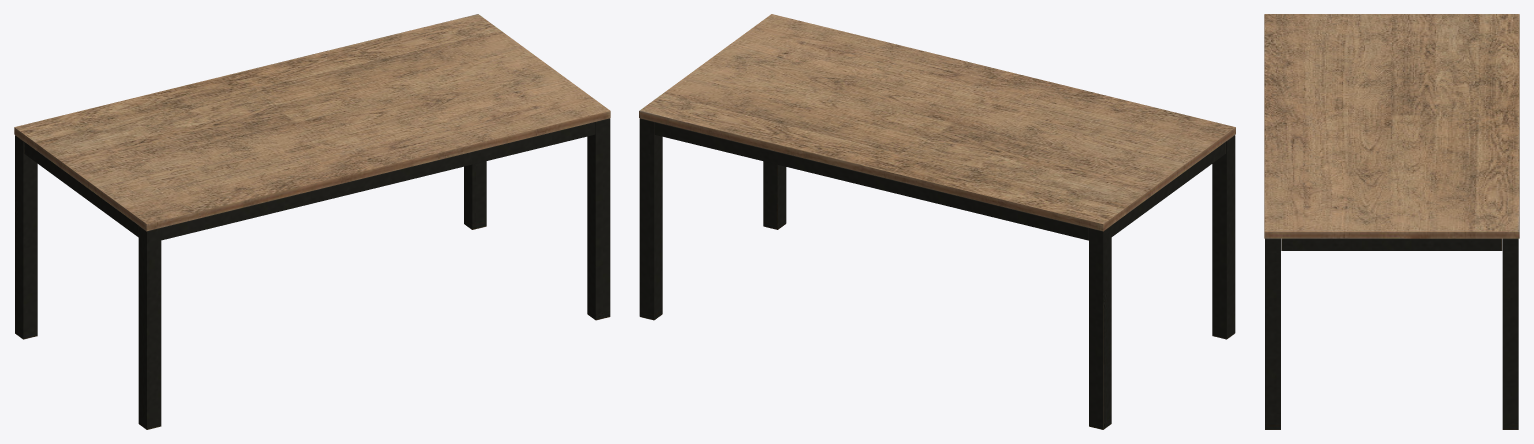
Rendered from B07HSJJF2X.glb.
3 renders of one model, left to right at view 1: azimuth 30°, elevation 25°; view 2: azimuth 150°, elevation 25°; view 3: azimuth 270°, elevation 25°, orthographic. The views are drawn at different scales.
Parts seen in each view (by area): view 1: RootNode; view 2: RootNode; view 3: RootNode.
Boxes of the visible parts, x1,y1,x2,y2 form: RootNode: [14, 14, 610, 429]; RootNode: [639, 14, 1235, 429]; RootNode: [1264, 14, 1519, 429].
Bounding box in the file's own units: 1.81 × 0.7668 × 0.8929.
1 material, 1 textured.
